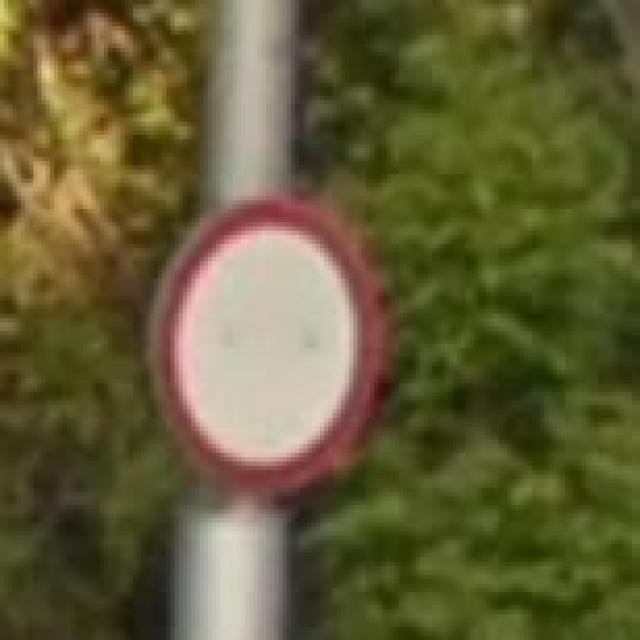Zakaz ruchu w obu kierunkach: (150, 200, 374, 492)
